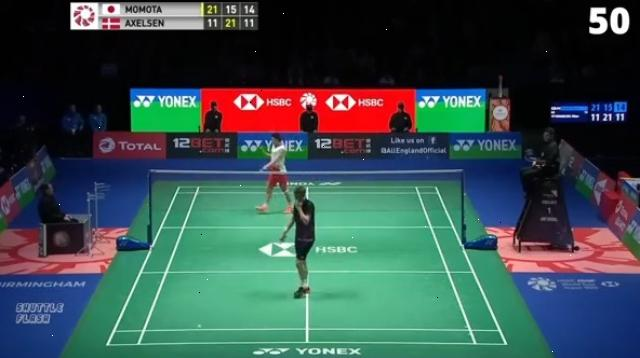Shuttlecock: (196, 324, 204, 332)
